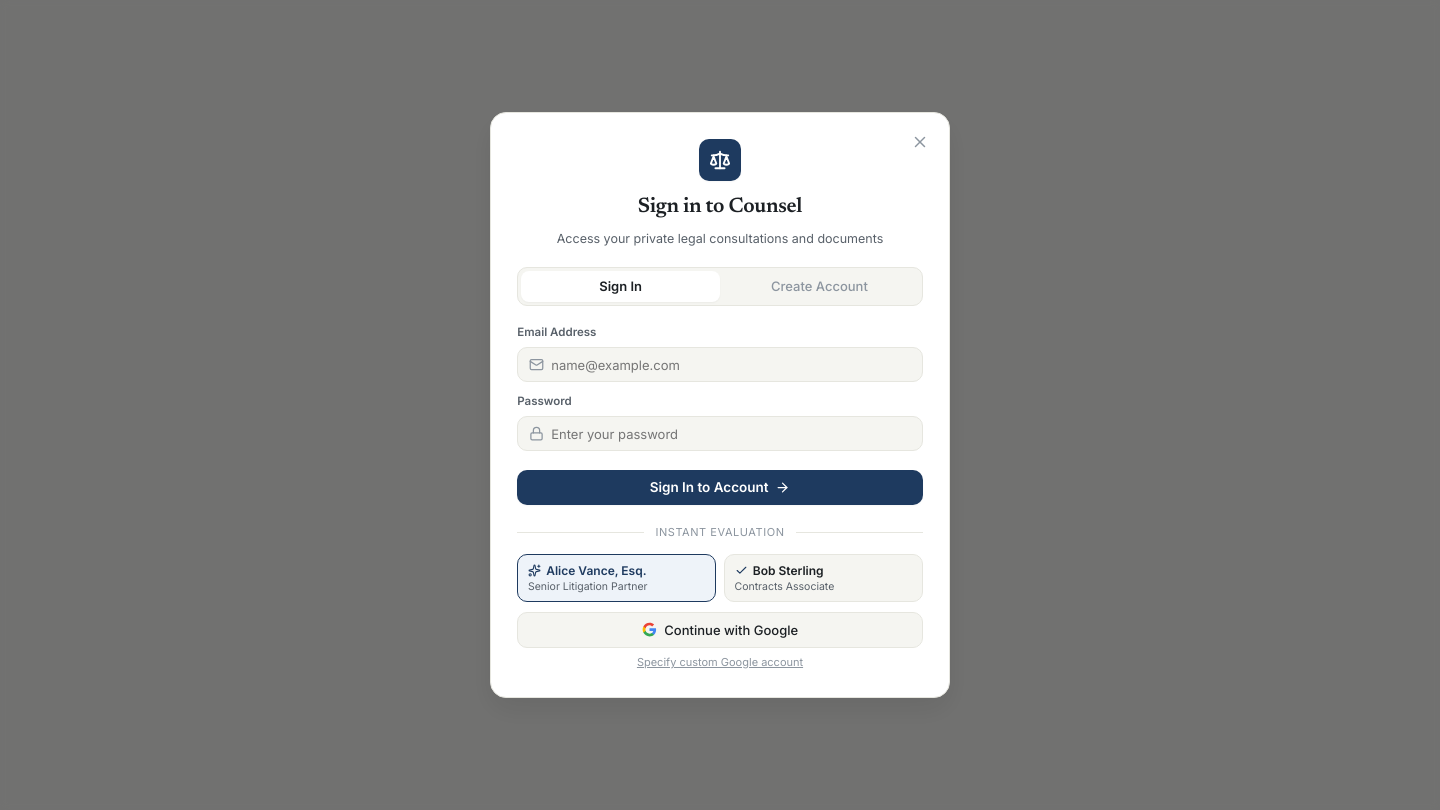
it: AuthModal Component & Registration Flow › switches to Create Account tab and exposes Full Name and Jurisdiction fields
# Click Create Account tab
Click the tab with aria-label "Create Account Tab". click: (819, 286)
box: [720,271,919,302]
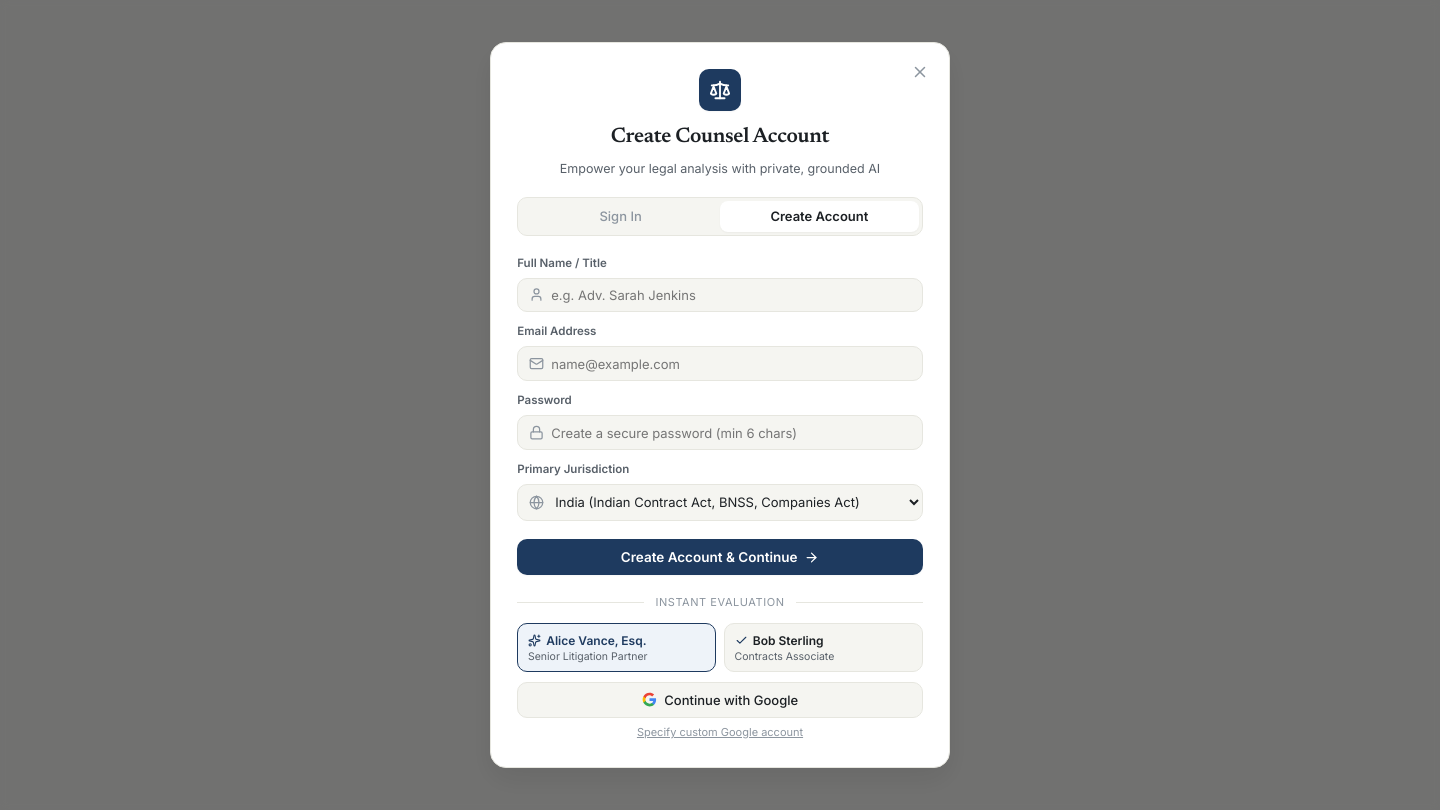
Check: the heading "Create Counsel Account" is shown, box [611,122,829,155]
Check: the field with placeholder "e.g. Adv. Sarah Jenkins" is shown, box [517,278,923,312]
Check: the text "Primary Jurisdiction" is shown, box [517,462,629,476]
